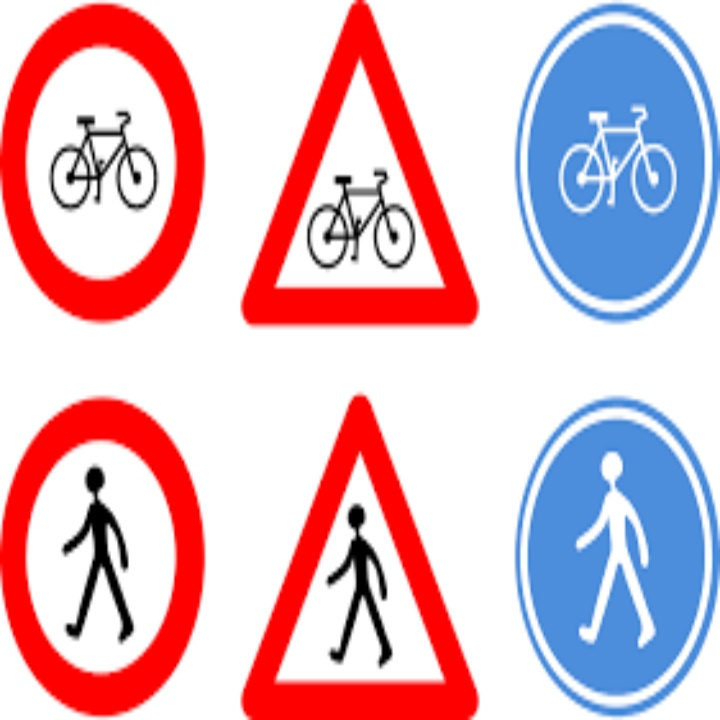bicycle: (559, 103, 679, 217), (307, 167, 421, 273), (51, 105, 159, 213)
cross: (575, 451, 665, 651), (57, 465, 139, 647), (325, 507, 407, 669)
